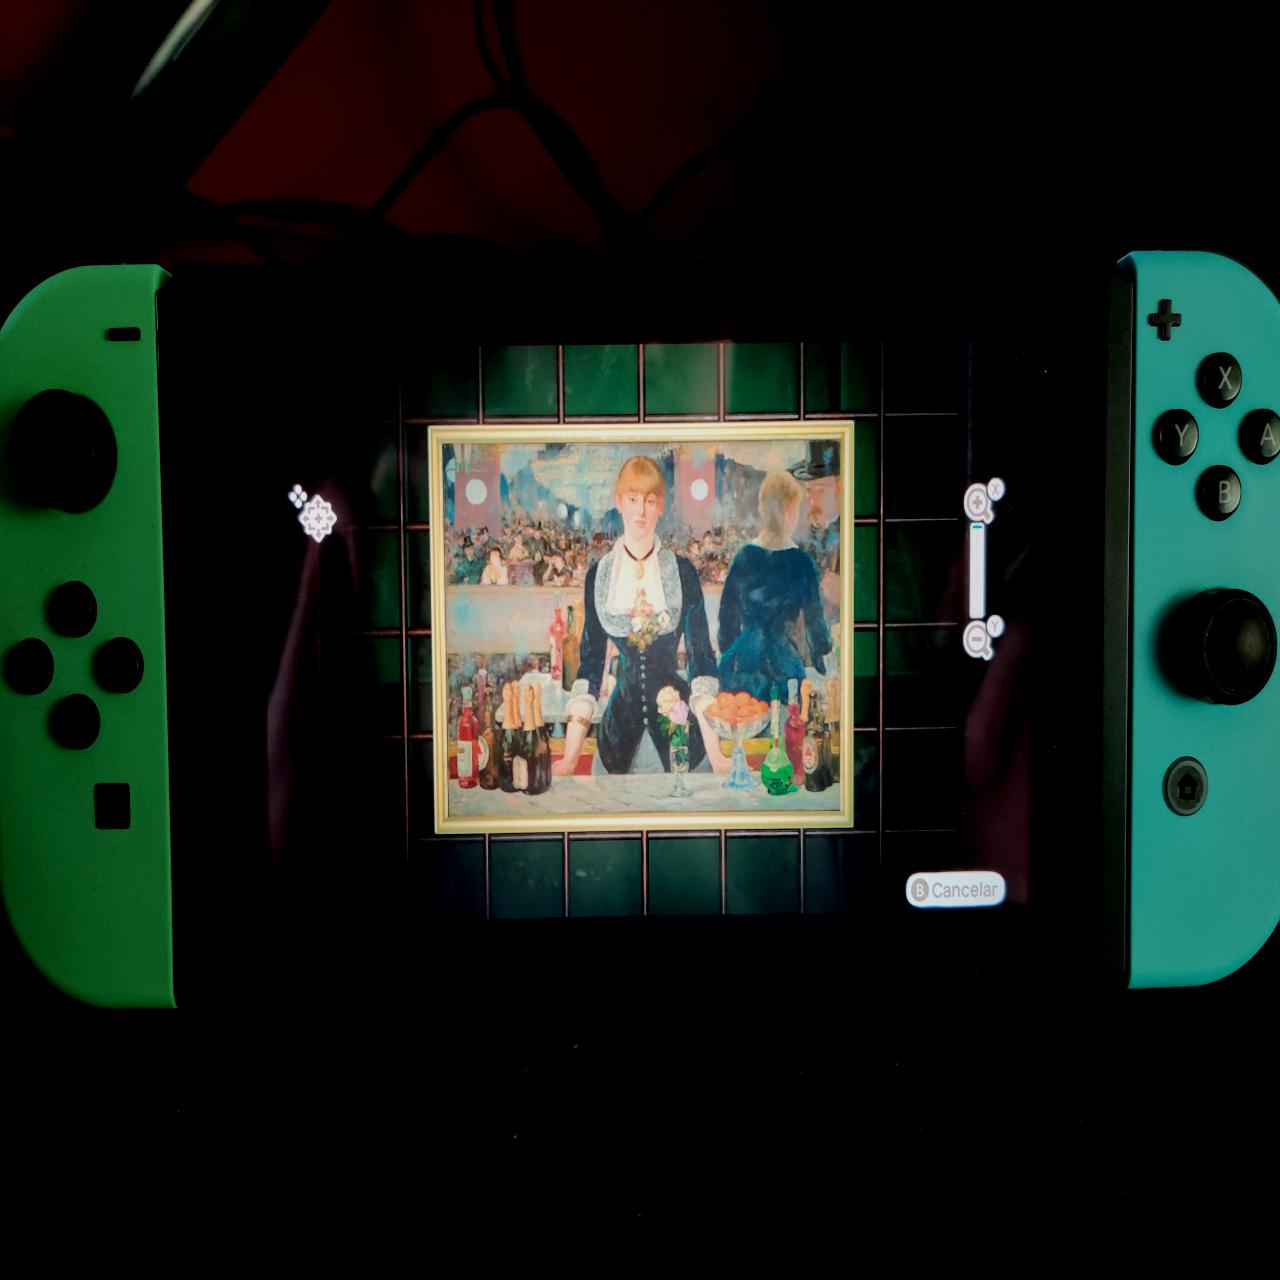BarFB: (444, 447, 844, 808)
